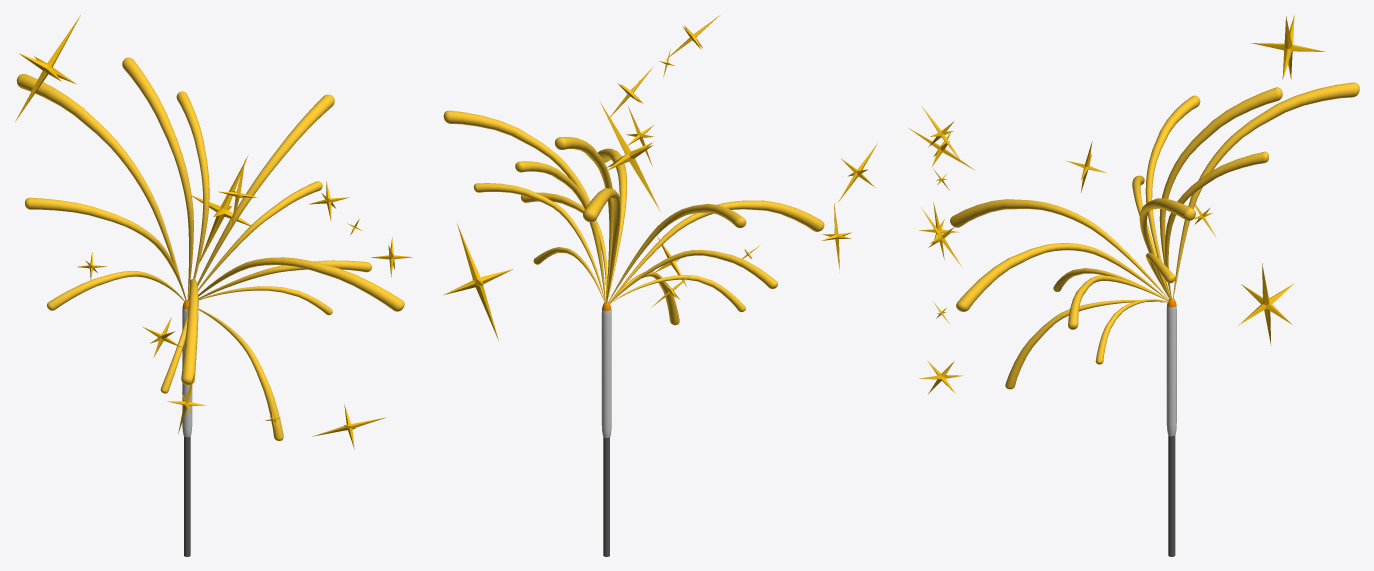
File: sparkler.gltf
The picture shows the model from 3 angles, left to right: view 1: azimuth 30°, elevation 25°; view 2: azimuth 150°, elevation 25°; view 3: azimuth 270°, elevation 25°; orthographic projection.
Parts seen in each view (by area): view 1: Sphere.512, Cylinder.464, Cube.875, Cube.876; view 2: Sphere.512, Cylinder.464, Cube.876, Cube.875; view 3: Sphere.512, Cylinder.464, Cube.876, Cube.875.
Boxes of the visible parts, x1=… form: Sphere.512: x1=16, y1=57, x2=404, y2=440; Cylinder.464: x1=182, y1=300, x2=192, y2=556; Cube.875: x1=15, y1=15, x2=80, y2=121; Cube.876: x1=191, y1=156, x2=250, y2=263; Sphere.512: x1=443, y1=110, x2=824, y2=325; Cylinder.464: x1=601, y1=301, x2=611, y2=556; Cube.876: x1=443, y1=224, x2=512, y2=340; Cube.875: x1=600, y1=102, x2=660, y2=211; Sphere.512: x1=950, y1=82, x2=1359, y2=389; Cylinder.464: x1=1166, y1=298, x2=1176, y2=556; Cube.876: x1=1238, y1=263, x2=1294, y2=345; Cube.875: x1=1251, y1=15, x2=1325, y2=79.
Size of the model in its own units: 1.54 by 2.42 by 1.92.
1 material, 1 textured.
